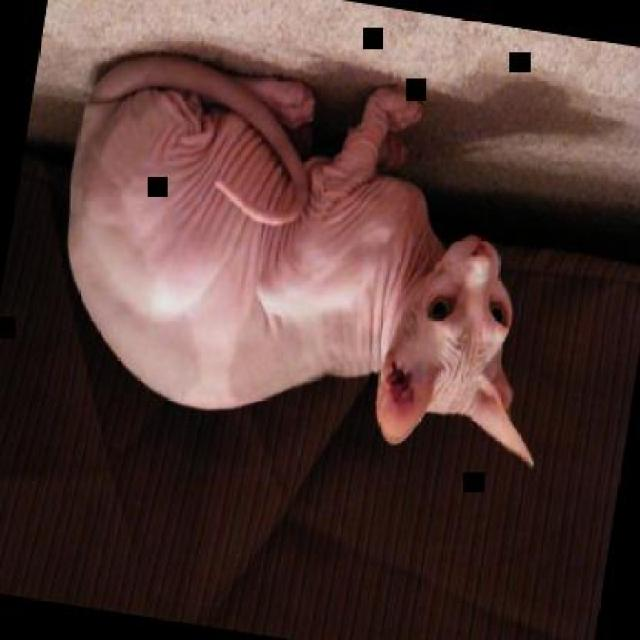cat: (36, 38, 590, 470)
